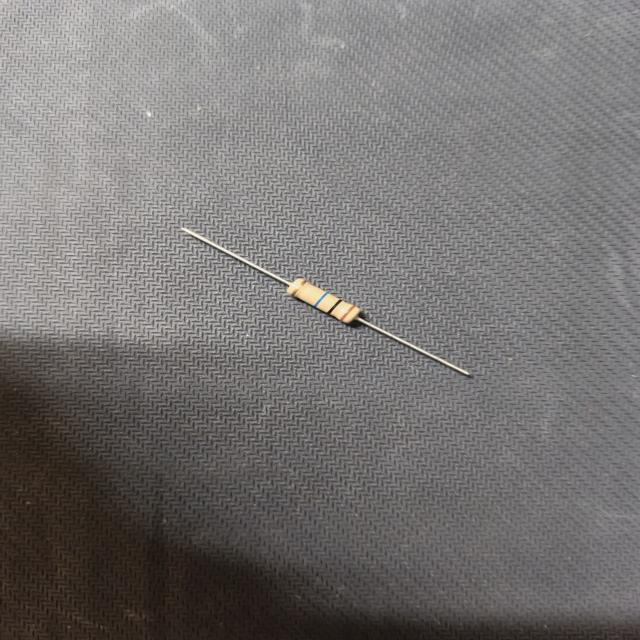resistor: (175, 218, 491, 388)
